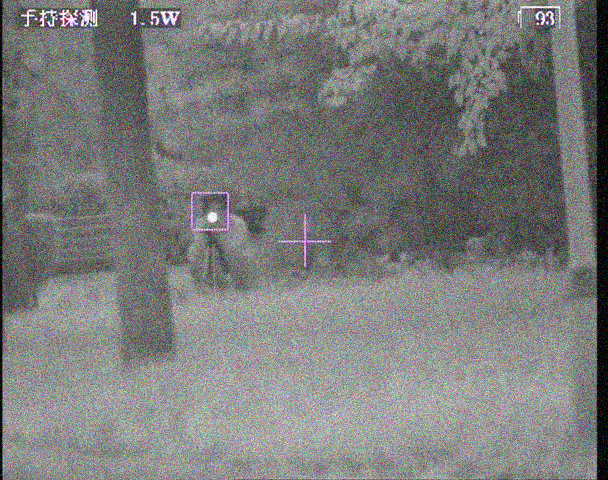my: (204, 211, 218, 226)
